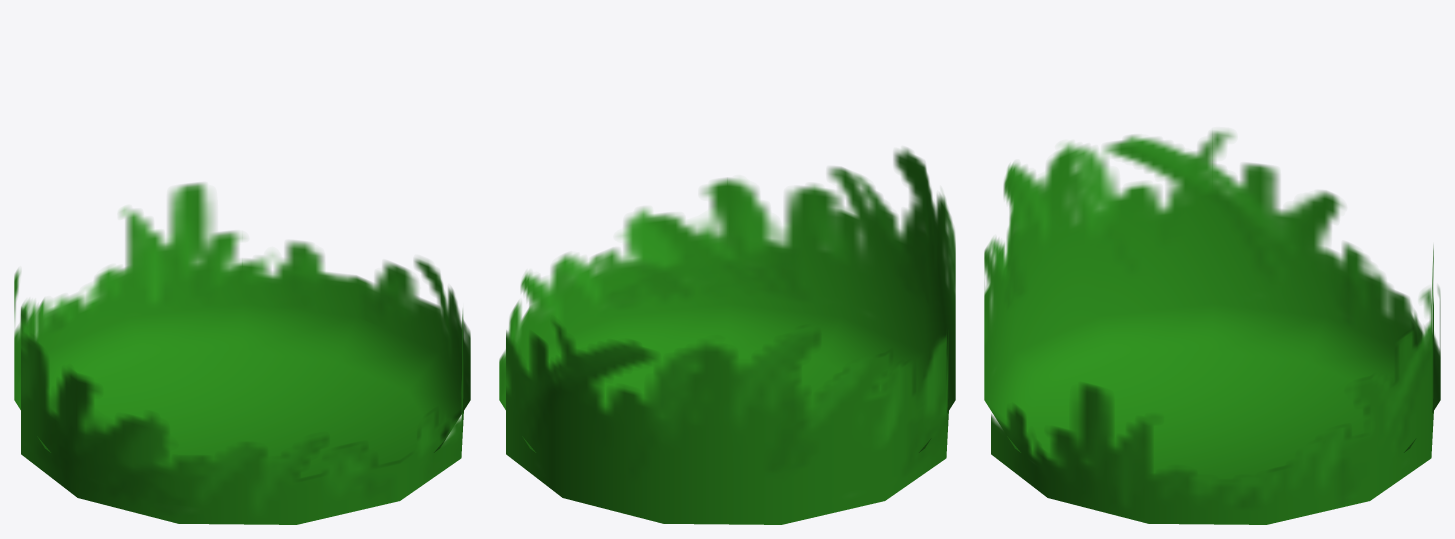
Rendered from Grasfield.glb.
The picture shows the model from 3 angles, left to right: view 1: azimuth 30°, elevation 25°; view 2: azimuth 150°, elevation 25°; view 3: azimuth 270°, elevation 25°; orthographic projection.
Visible parts, largest first — view 1: Circle, Circle.001; view 2: Circle, Circle.001; view 3: Circle, Circle.001.
Boxes of the visible parts, bbox=[...] form: Circle: bbox=[14, 183, 470, 485]; Circle.001: bbox=[21, 307, 463, 524]; Circle: bbox=[499, 148, 955, 452]; Circle.001: bbox=[506, 319, 948, 524]; Circle: bbox=[984, 130, 1440, 498]; Circle.001: bbox=[991, 246, 1433, 524].
Size of the model in its own units: 0.9911 by 0.7711 by 0.9911.
Materials: 1 (1 with a texture image).
